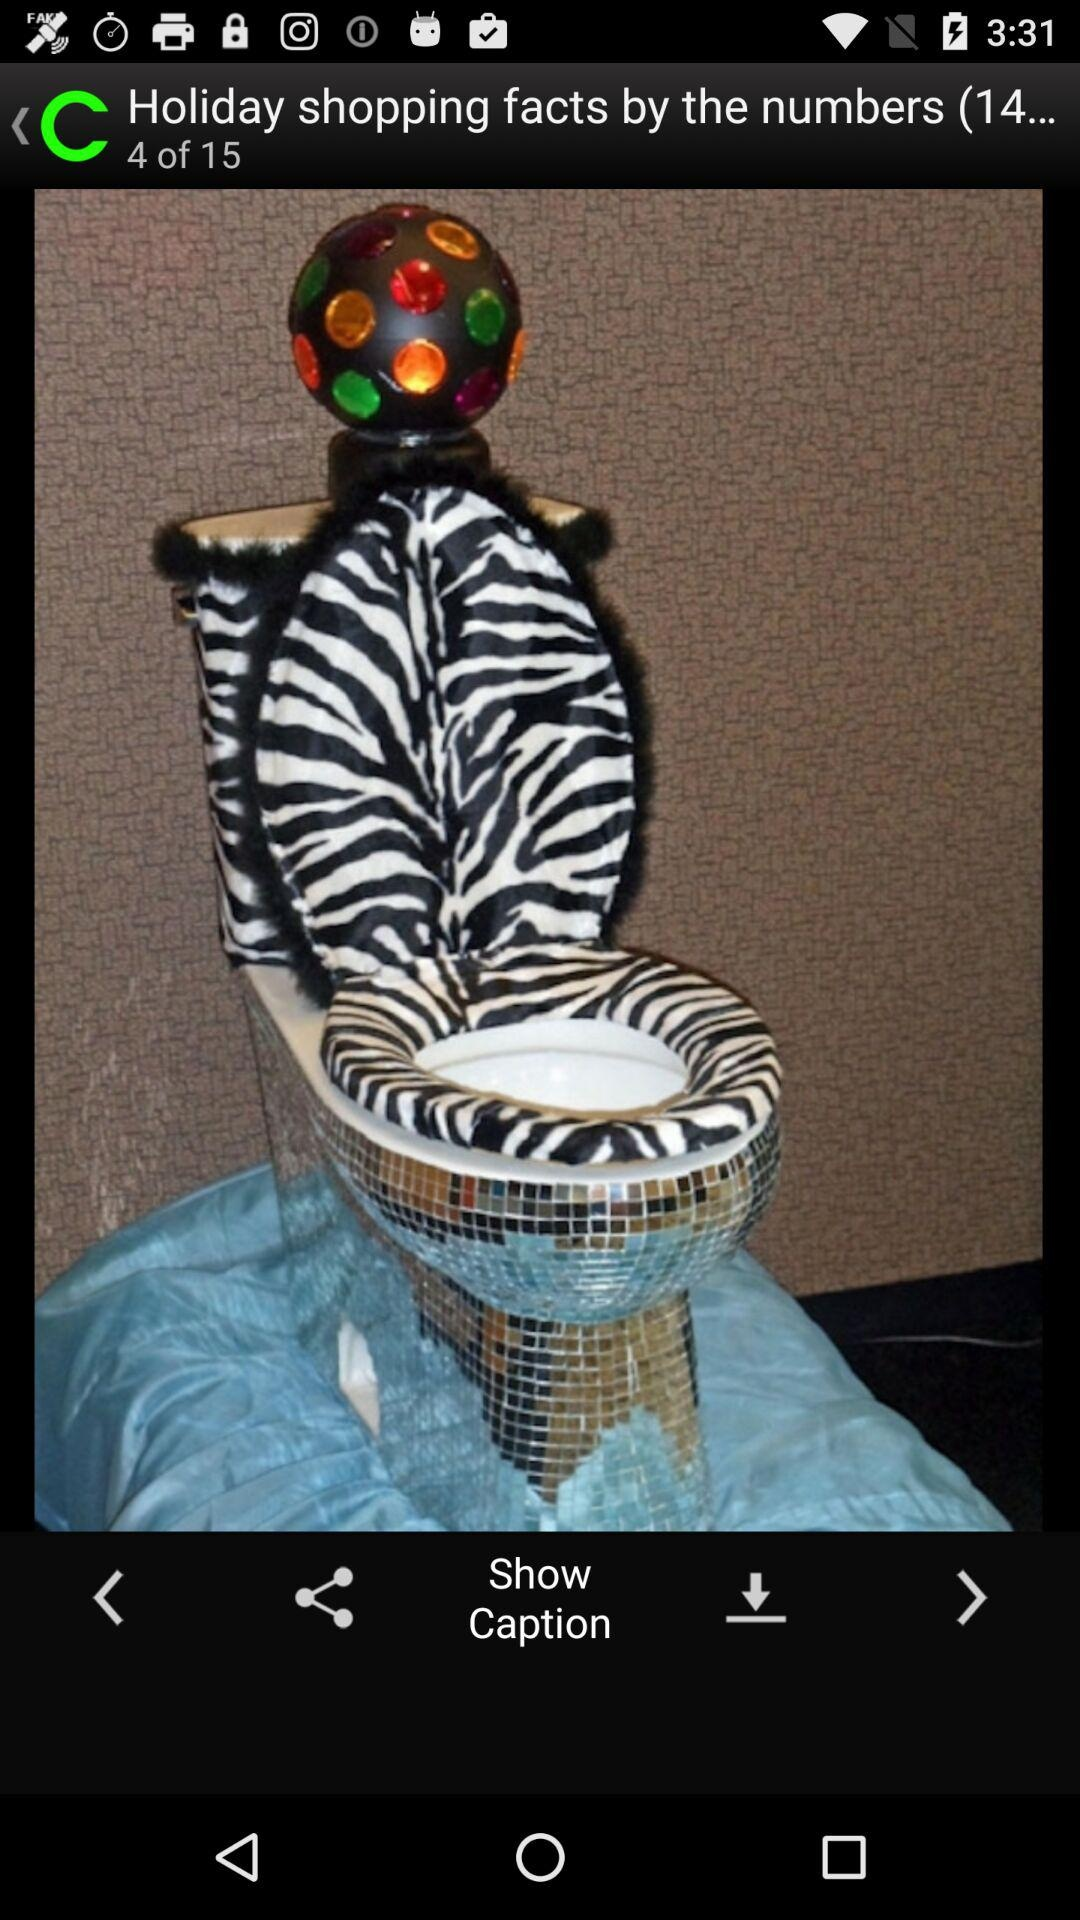Bar: (440, 696, 640, 895), (440, 895, 566, 1021), (520, 1021, 560, 1064)
Button: (433, 1532, 647, 1663)
Container: (5, 189, 1075, 1532)
ImageView: (32, 84, 116, 167), (5, 105, 42, 146)
SpecialButton: (216, 1532, 433, 1663), (647, 1532, 864, 1663), (5, 1532, 216, 1663), (864, 1532, 1075, 1663)
TextView: (127, 73, 1059, 136)
